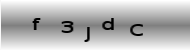3: (59, 20, 74, 34)
C: (129, 22, 145, 36)
J: (83, 25, 90, 43)
d: (100, 17, 114, 31)
f: (31, 16, 41, 31)
